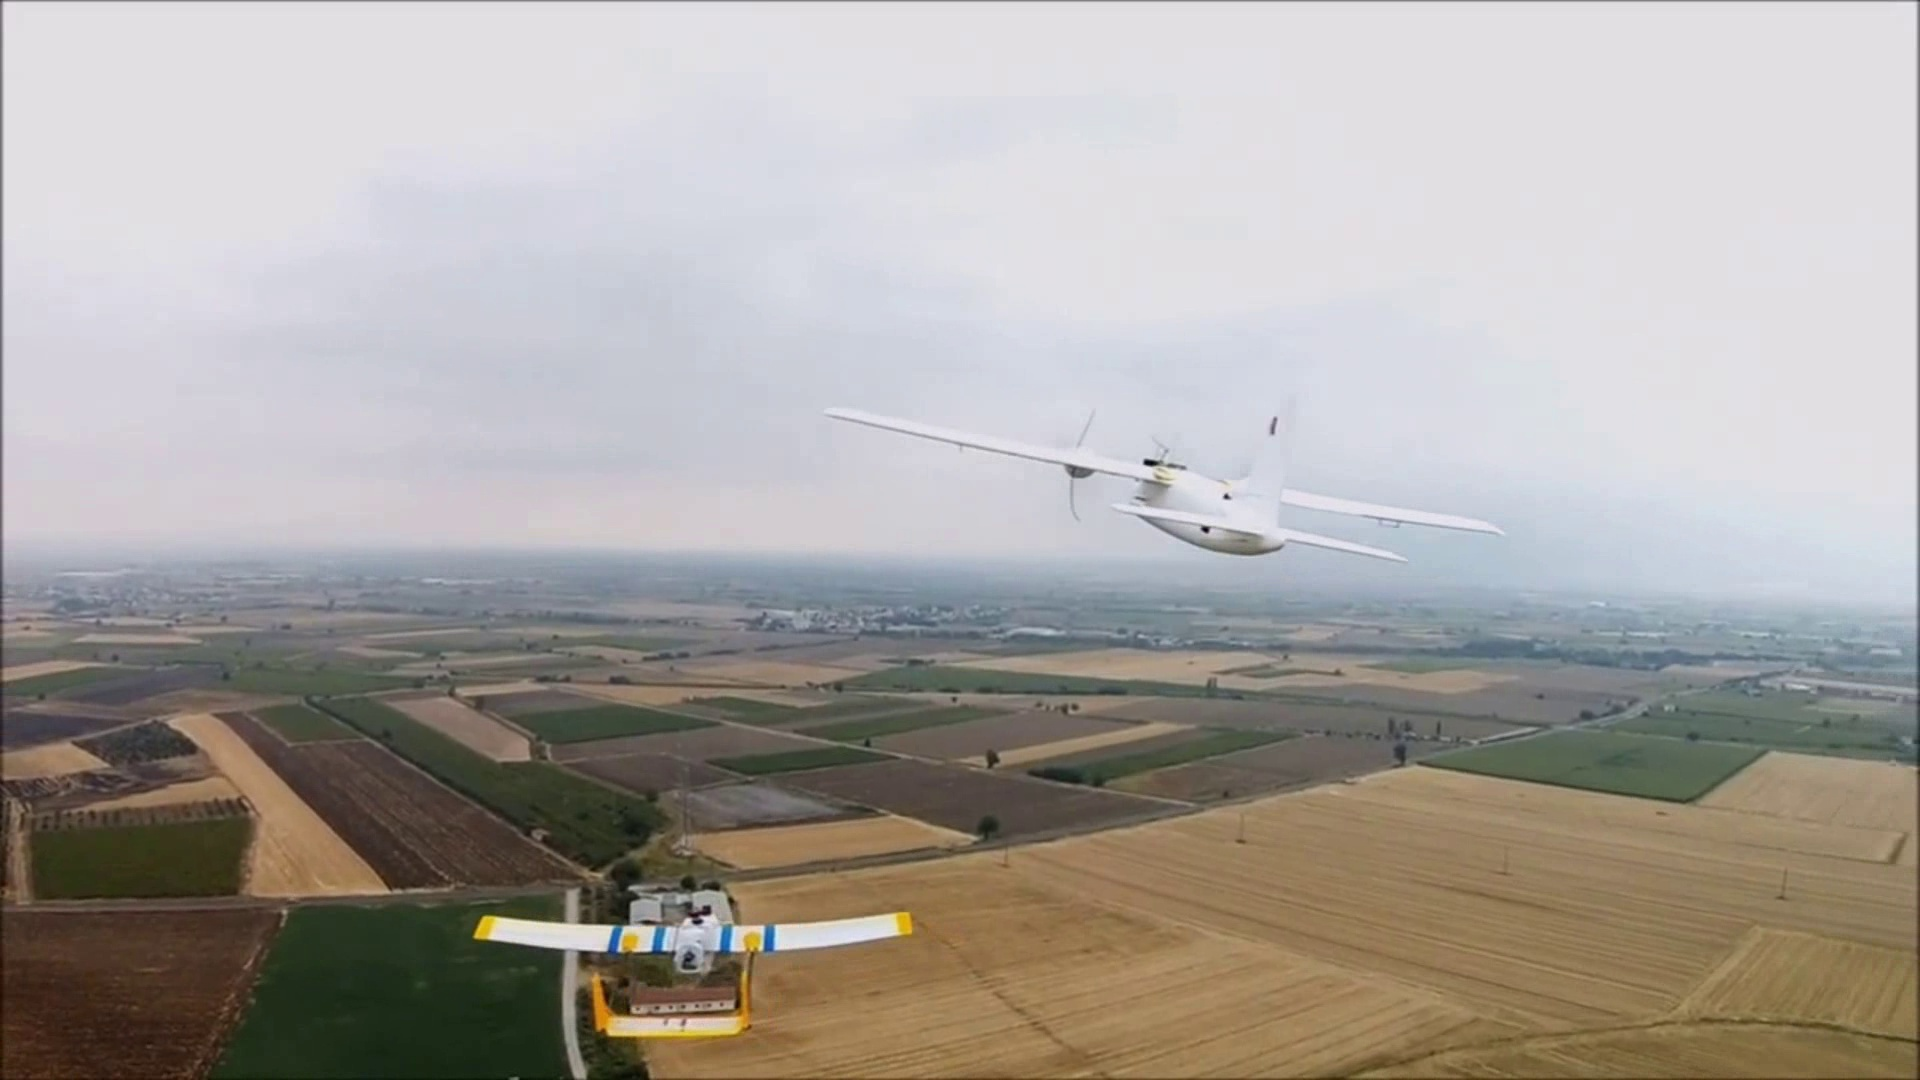airplane: (824, 403, 1505, 567)
